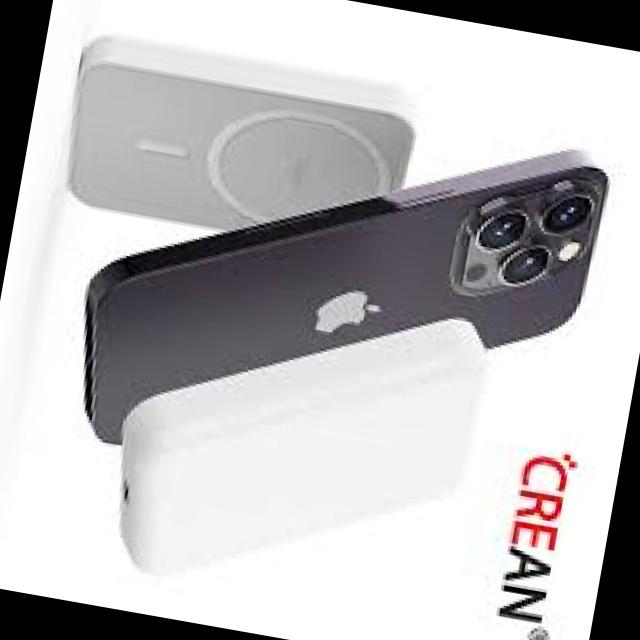power_bank: (98, 262, 496, 626), (50, 27, 429, 268)
